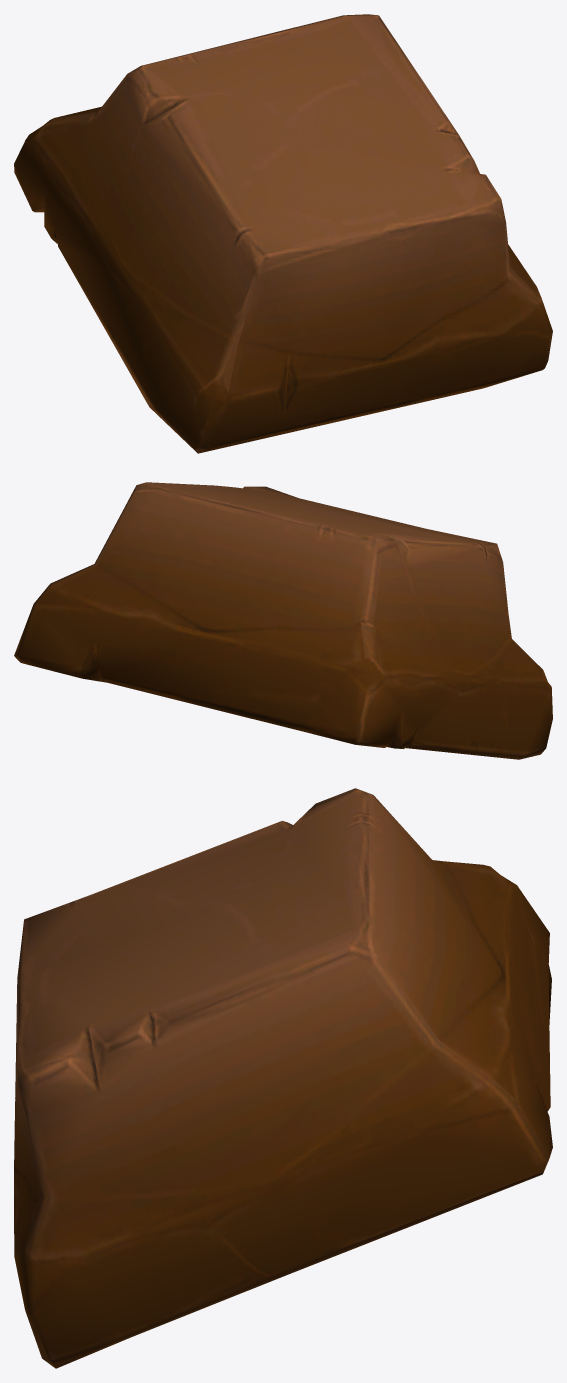
File: item_巧克力.fbx
3 renders of one model, top to bottom at view 1: azimuth 30°, elevation 25°; view 2: azimuth 150°, elevation 25°; view 3: azimuth 270°, elevation 25°, orthographic. The views are drawn at different scales.
Parts seen in each view (by area): view 1: node_id99; view 2: node_id99; view 3: node_id99.
Boxes of the visible parts, x1=… form: node_id99: x1=14, y1=14, x2=552, y2=453; node_id99: x1=14, y1=482, x2=552, y2=759; node_id99: x1=14, y1=788, x2=552, y2=1368.
Bounding box in the file's own units: 6.78 × 5.13 × 6.42.
1 material, 1 textured.
